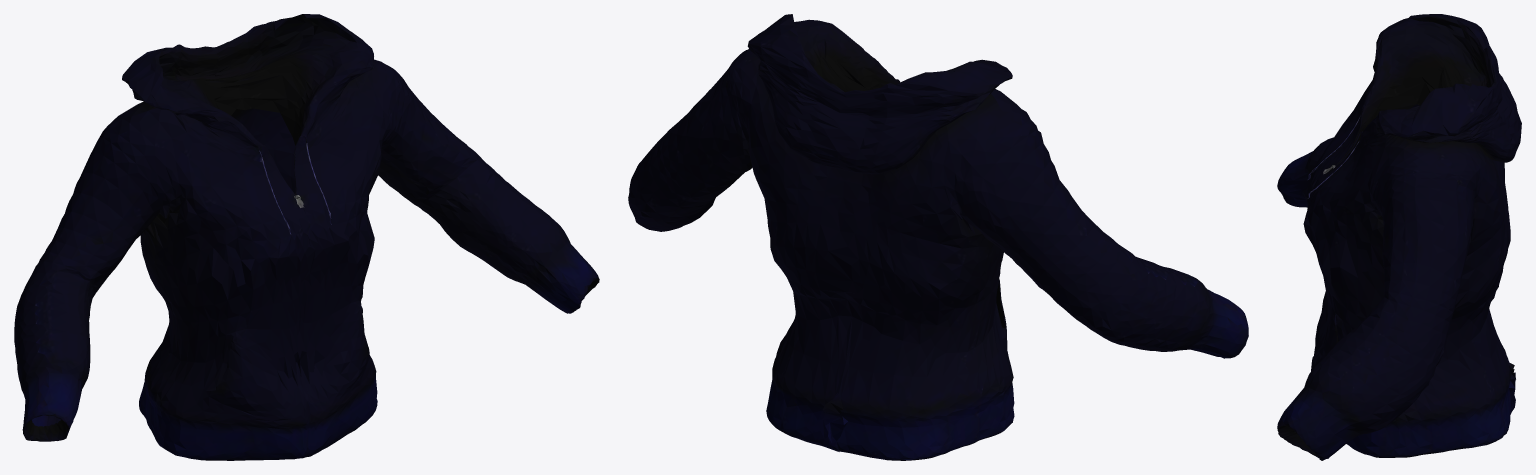
Rendered from mhw_elvs_hooded_sweat_jacket1.glb.
3 views of the same model, side by side, from view 1: azimuth 30°, elevation 25°; view 2: azimuth 150°, elevation 25°; view 3: azimuth 270°, elevation 25° (orthographic). The views are drawn at different scales.
Visible parts, largest first — view 1: mhw_elvs_hooded_sweat_jacket1; view 2: mhw_elvs_hooded_sweat_jacket1; view 3: mhw_elvs_hooded_sweat_jacket1.
Part boxes in pixels (x1=…): mhw_elvs_hooded_sweat_jacket1: x1=14, y1=14, x2=599, y2=460; mhw_elvs_hooded_sweat_jacket1: x1=628, y1=14, x2=1248, y2=460; mhw_elvs_hooded_sweat_jacket1: x1=1277, y1=14, x2=1521, y2=460.
Size of the model in its own units: 1.12 by 0.6969 by 0.423.
1 material, 1 textured.
